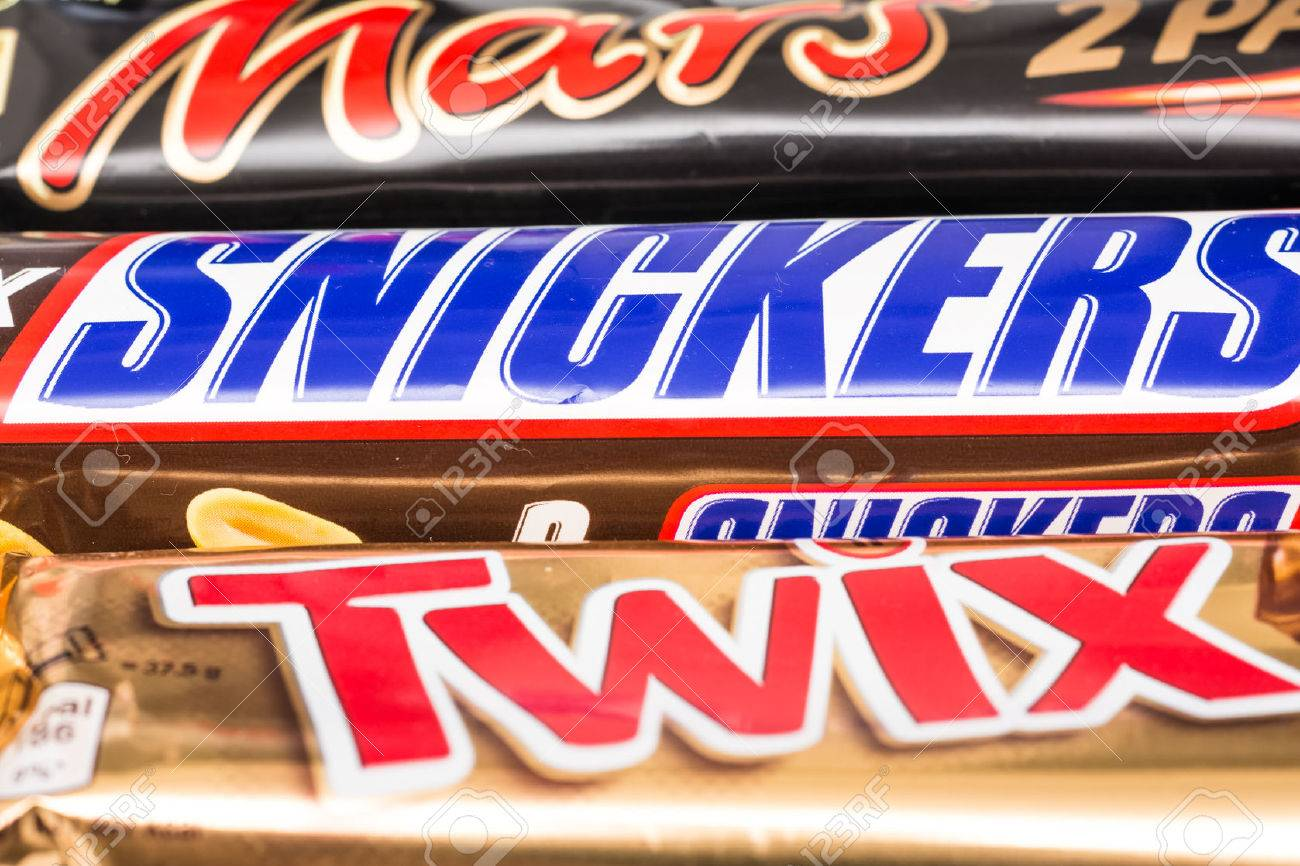snickers: (35, 208, 1299, 412)
